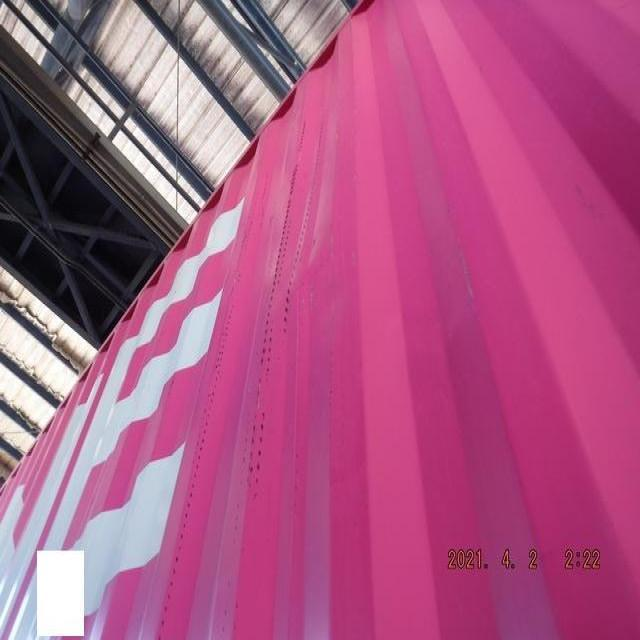Dent: (239, 215, 368, 339)
